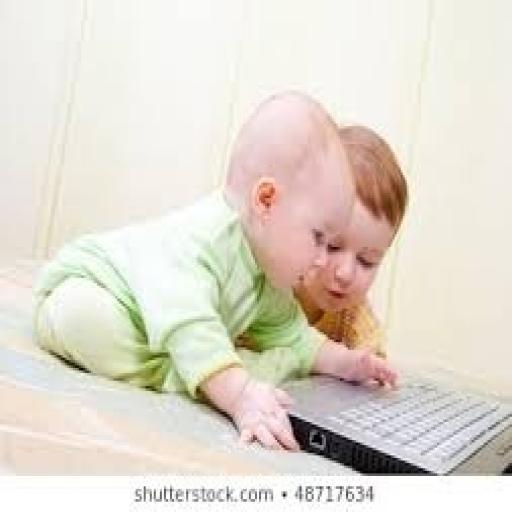using_laptop: (196, 244, 512, 512)
